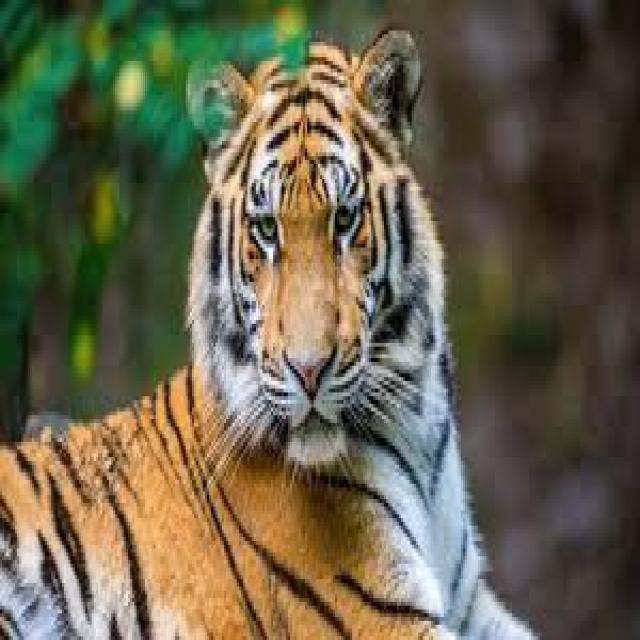Tiger: (0, 23, 542, 636)
